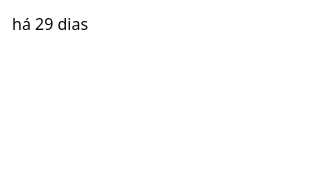
formatação de datas › tooltip da data relativa traz a data completa
The width and height of the screenshot is (332, 172).
Step 1. Hover over the text "há 29 dias" → (50, 24), box [12,13,88,35]
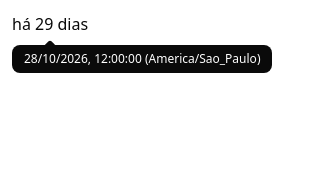
Result: the tooltip "28/10/2026, 12:00:00 (America/Sao_Paulo)" is shown at [12,45,272,73]
